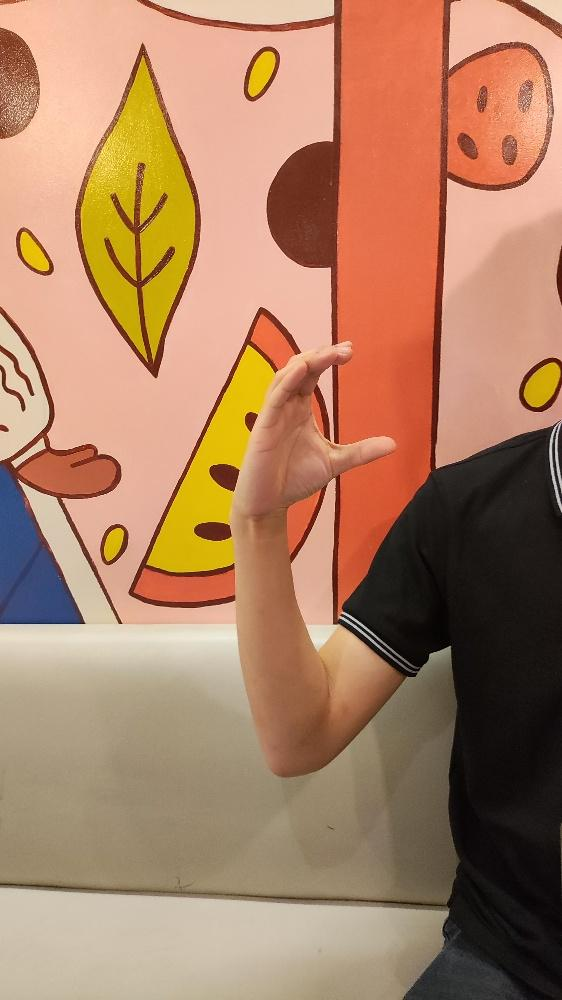c: (239, 338, 397, 518)
